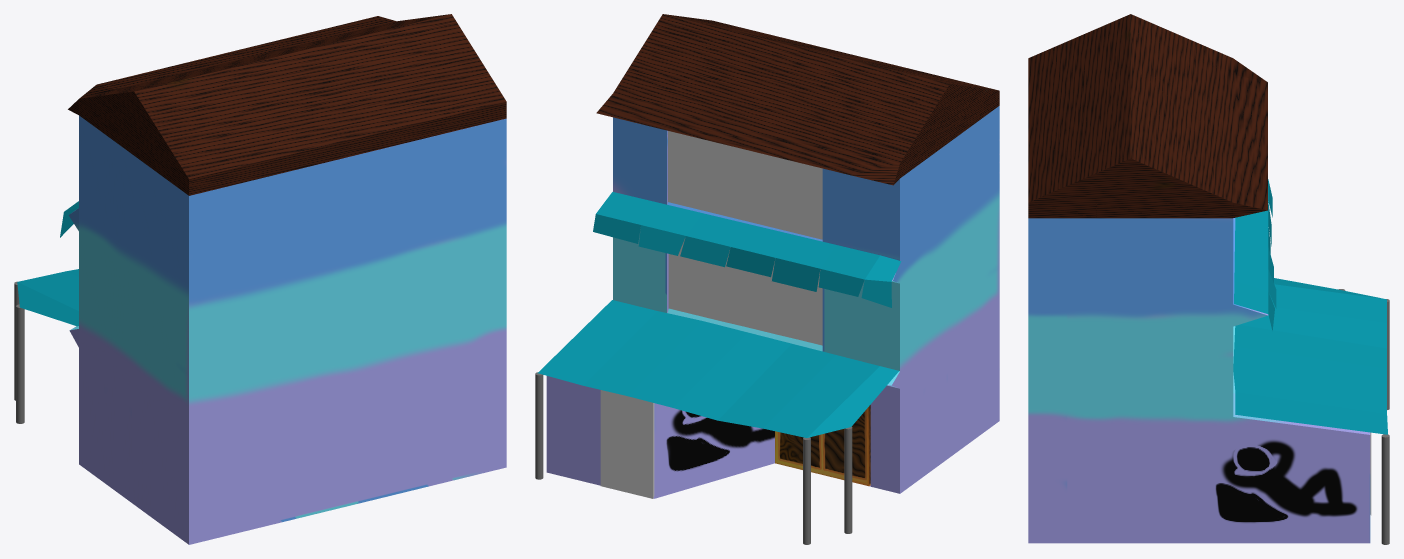
The model's file is 3StoryPlace.fbx.
3 views of the same model, side by side, from view 1: azimuth 30°, elevation 25°; view 2: azimuth 150°, elevation 25°; view 3: azimuth 270°, elevation 25° (orthographic). The views are drawn at different scales.
Parts seen in each view (by area): view 1: BaseBuilding, Roof, Overhang.001, Support.003; view 2: BaseBuilding, Roof, Overhang.001, Overhang, Window.003, Window.002, Window.001, Door, Support.003, Support.001, Support.002; view 3: BaseBuilding, Roof, Overhang.001, Overhang, Support.001.
Boxes of the visible parts, x1,y1,x2,y2 form: BaseBuilding: (68, 115, 506, 544); Roof: (68, 14, 506, 195); Overhang.001: (17, 269, 78, 326); Support.003: (16, 304, 24, 423); BaseBuilding: (546, 106, 999, 498); Roof: (596, 14, 999, 185); Overhang.001: (537, 300, 898, 437); Overhang: (593, 192, 901, 307); Window.003: (668, 131, 822, 239); Window.002: (668, 238, 822, 345); Window.001: (600, 390, 654, 498); Door: (775, 405, 870, 486); Support.003: (844, 426, 852, 533); Support.001: (535, 372, 543, 479); Support.002: (803, 437, 810, 544); BaseBuilding: (1028, 218, 1370, 543); Roof: (1028, 14, 1267, 218); Overhang.001: (1233, 278, 1387, 434); Overhang: (1234, 179, 1276, 330); Support.001: (1381, 434, 1389, 544).
Bounding box in the file's own units: 2054 × 2486 × 2116.
Materials: 7 (3 with a texture image).
